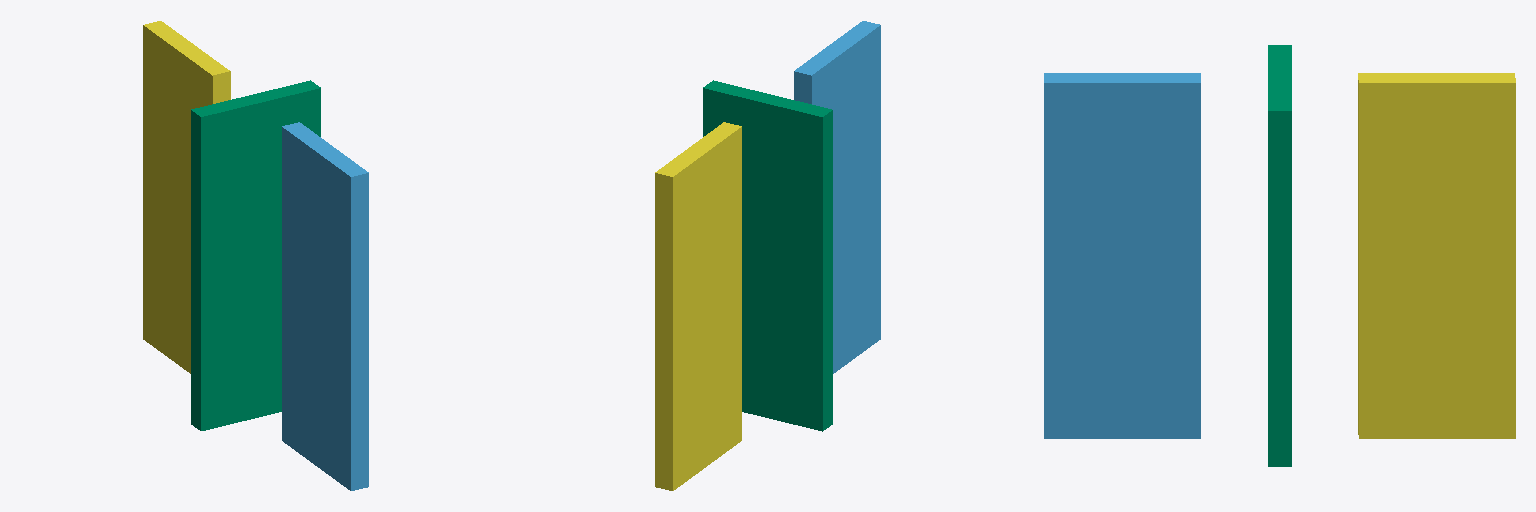
URDF robot description (objects3):
<?xml version="1.0"?>
    <robot name="objects3">

    
      <link name="base_link1">
        <origin xyz="0.4 0.25 0.3"/>
        </link>



    <link name="door1">
        <visual>
         <geometry>
             <box size="0.03 0.2 0.5"/>
         </geometry>   
         <origin rpy="0.0 0.0 0.0" xyz="0.0 0.1 0.0"/>  
        </visual>
        <collision>
            <geometry>
             <box size="0.03 0.2 0.5"/>
         </geometry>   
         <origin rpy="0.0 0.0 0.0" xyz="0.0 0.1 0.0"/>  
        
        </collision>
    </link>


    <link name="door2">
        <visual>
         <geometry>
             <box size="0.03 0.2 0.5"/>
         </geometry>   
         <origin rpy="0.0 0.0 0.0" xyz="0.0 0.1 0.0"/>  
        </visual>
    <collision>
        <geometry>
             <box size="0.03 0.2 0.5"/>
         </geometry>   
         <origin rpy="0.0 0.0 0.0" xyz="0.0 0.1 0.0"/>  
    </collision>
    </link>


    <link name="door3">
        <visual>
         <geometry>
             <box size="0.03 0.2 0.5"/>
         </geometry>   
         <origin rpy="0.0 0.0 0.0" xyz="0.0 0.1 0.0"/>  
        </visual>
        <collision>
            <geometry>
             <box size="0.03 0.2 0.5"/>
         </geometry>   
         <origin rpy="0.0 0.0 0.0" xyz="0.0 0.1 0.0"/>  
        </collision>
    </link>


    <joint name="base_to_door1" type="revolute">
        <parent link="base_link1"/>
        <child link="door1"/>
        <origin rpy="0 0 0" xyz="0.55 -0.3 0.2"/>
        <axis xyz="0.0 0.0 1"/>
        <limit lower="-3.17" upper="0.43" effort="0.05" velocity="1.57"/>
    </joint>

    <joint name="base_to_door2" type="revolute">
        <parent link="base_link1"/>
        <child link="door2"/>
        <origin rpy="0 0 1.57" xyz="0.65 0.0 0.2"/>
        <axis xyz="0.0 0.0 1"/>
        <limit lower="0.0" upper="2.00" effort="0.05" velocity="1.57"/>
    </joint>

    <joint name="base_to_door3" type="revolute">
        <parent link="base_link1"/>
        <child link="door3"/>
        <origin rpy ="0 0 -3.14" xyz="0.55 0.3 0.2"/>
        <axis xyz="0.0 0.0 1"/>
        <limit lower="-4.17" upper="0.43" effort="0.05" velocity="1.57"/>
    </joint>



    </robot>

--- Render facts (derived) ---
3 views of the same robot in one strip: view 1: azimuth 30°, elevation 25°; view 2: azimuth 150°, elevation 25°; view 3: azimuth 270°, elevation 25° (orthographic).
Model objects3 with 4 links and 3 joints (3 revolute), rooted at base_link1, posed all joints at 0.
Links seen in each view (by area): view 1: door2, door1, door3; view 2: door2, door3, door1; view 3: door3, door1, door2.
Boxes of the visible links, x1,y1,x2,y2 form: door2: [191, 80, 320, 430]; door1: [282, 122, 368, 490]; door3: [143, 21, 230, 373]; door2: [703, 80, 832, 431]; door3: [655, 122, 741, 490]; door1: [794, 21, 880, 373]; door3: [1358, 73, 1515, 438]; door1: [1044, 73, 1200, 438]; door2: [1268, 45, 1291, 466].
Size in the robot's own frame: 0.2 by 0.6 by 0.5 metres.
Geometry: primitives only (box / cylinder / sphere), no mesh files.